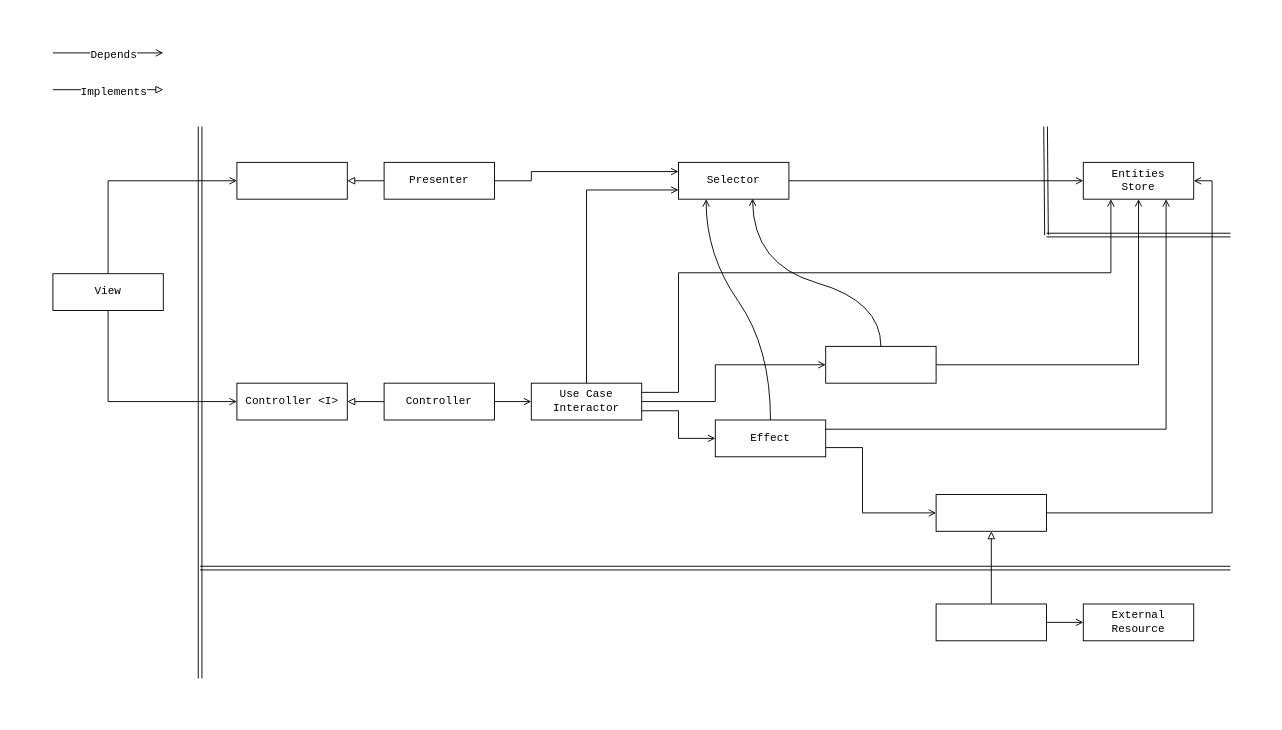
The diagram is 1282 pixels wide and 730 high, and some of its shapes have lost their labels. The shapes that lost their labels are listed below. From the top down, each one's box as (x1, y1, x2, y2) in pixels, then its label:
(236, 161, 347, 199): Presenter <I>
(825, 345, 936, 383): Transaction
(935, 494, 1046, 531): Gateway <I>
(935, 603, 1046, 641): Gateway
